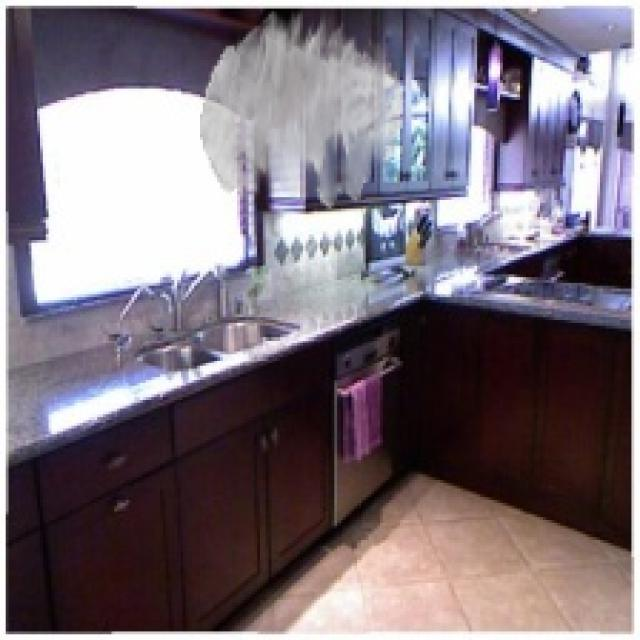smoke: (200, 8, 403, 208)
